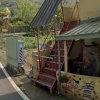stairs: (34, 20, 78, 91)
